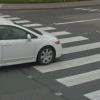Crosswalk: (40, 20, 100, 100)
